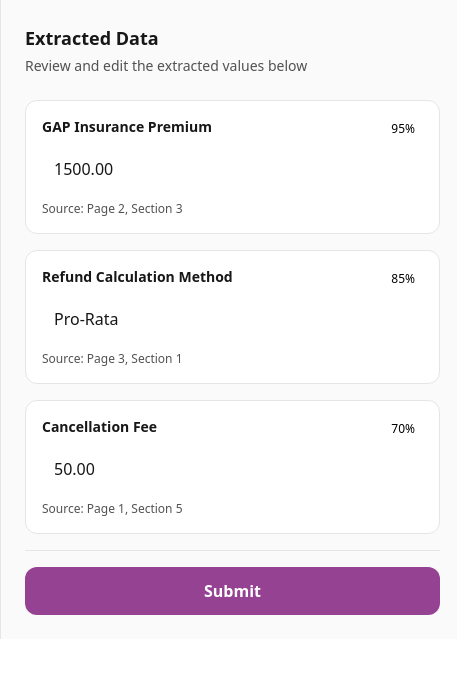
it: DataPanel Component › Field Editing › should remove correction if field reverted to original value
// Edit value
Click the button "1500.00" at (84, 169), box x1=54 y1=158 x2=113 y2=180
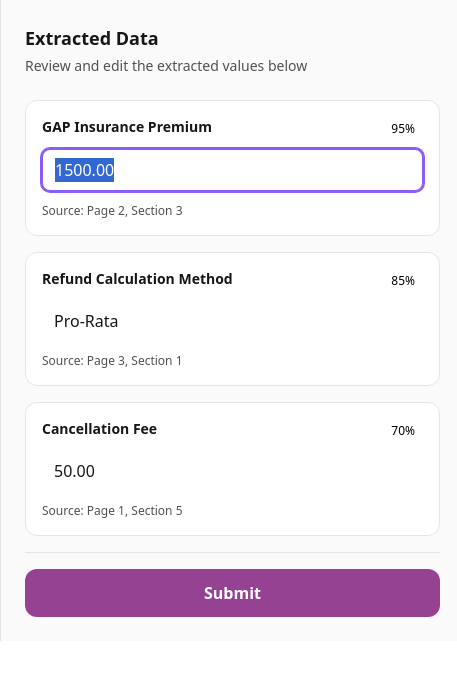
Replace the text in the field with "1600.00" at (232, 170), box x1=42 y1=149 x2=423 y2=191
Then press Enter
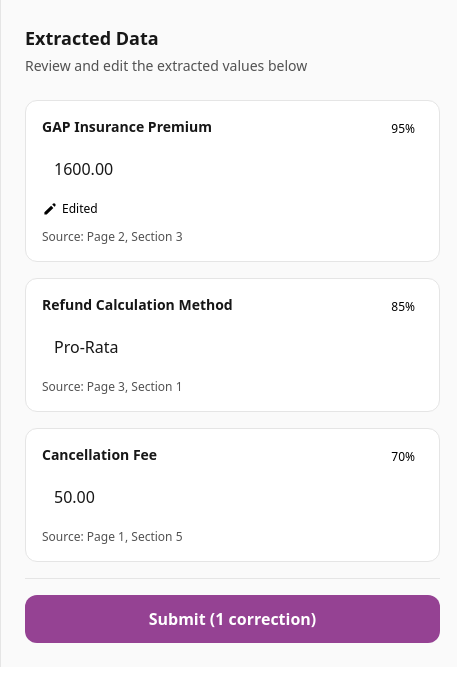
Check: the button "1600.00" is shown
// Revert to original
Click the button "1600.00" at (84, 169), box x1=54 y1=158 x2=113 y2=180
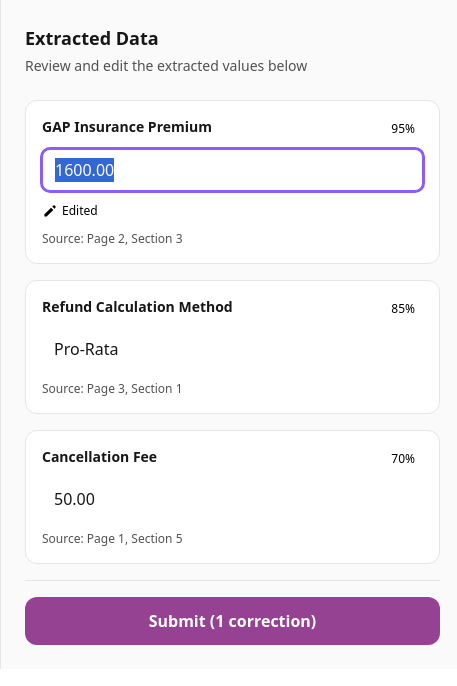
Replace the text in the field with "1500.00" at (232, 170), box x1=42 y1=149 x2=423 y2=191
Then press Enter
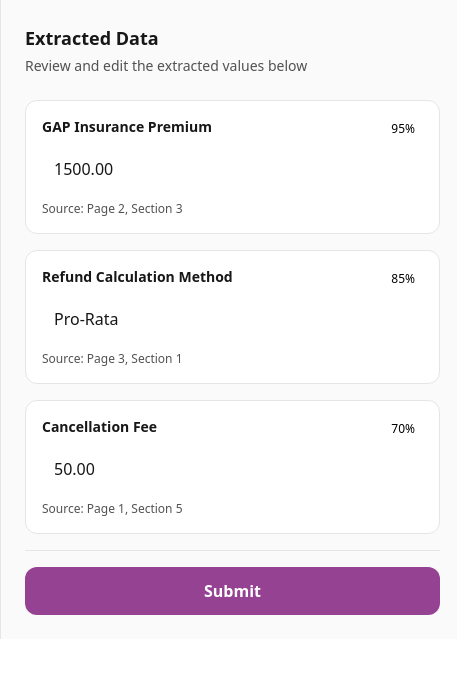
Check: the button "1500.00" is shown, box x1=54 y1=158 x2=113 y2=180
Check: the text "Edited" is gone
